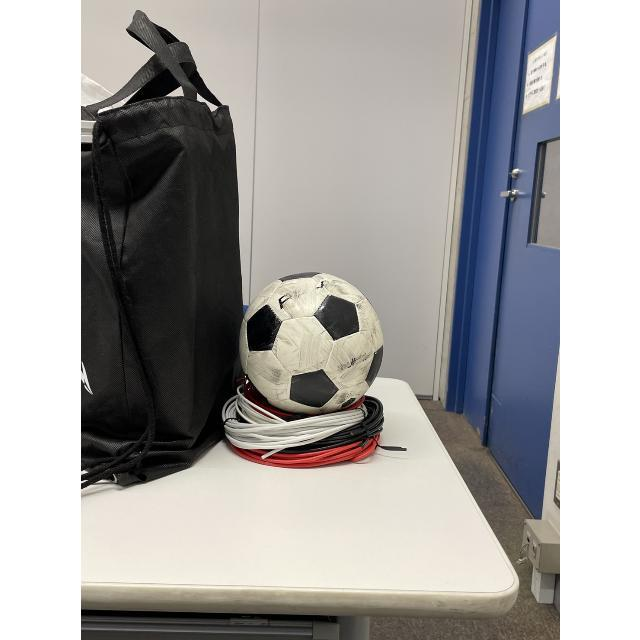ball: (239, 272, 381, 414)
